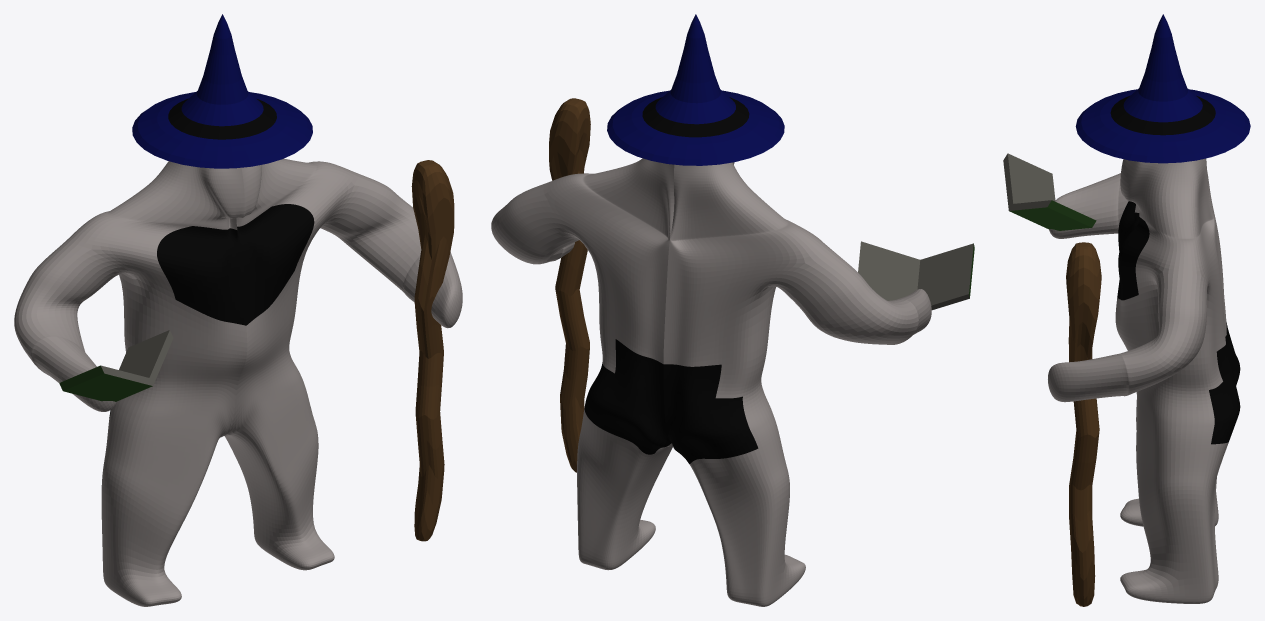
File: Moss Monkey 3.fbx
3 views of the same model, side by side, from view 1: azimuth 30°, elevation 25°; view 2: azimuth 150°, elevation 25°; view 3: azimuth 270°, elevation 25° (orthographic). The views are drawn at different scales.
Parts seen in each view (by area): view 1: Cube, Circle, Cube.001, Cube.002; view 2: Cube, Circle, Cube.001, Cube.002; view 3: Cube, Circle, Cube.001, Cube.002.
Boxes of the visible parts, x1,y1,x2,y2 form: Cube: (14, 158, 462, 606); Circle: (132, 14, 312, 168); Cube.001: (411, 160, 454, 541); Cube.002: (59, 330, 173, 401); Cube: (491, 158, 931, 606); Circle: (607, 14, 784, 165); Cube.001: (549, 98, 590, 472); Cube.002: (858, 241, 974, 310); Cube: (1048, 158, 1240, 603); Circle: (1075, 14, 1250, 163); Cube.001: (1066, 242, 1101, 606); Cube.002: (1003, 153, 1096, 230).
Size of the model in its own units: 815 by 1024 by 420.
